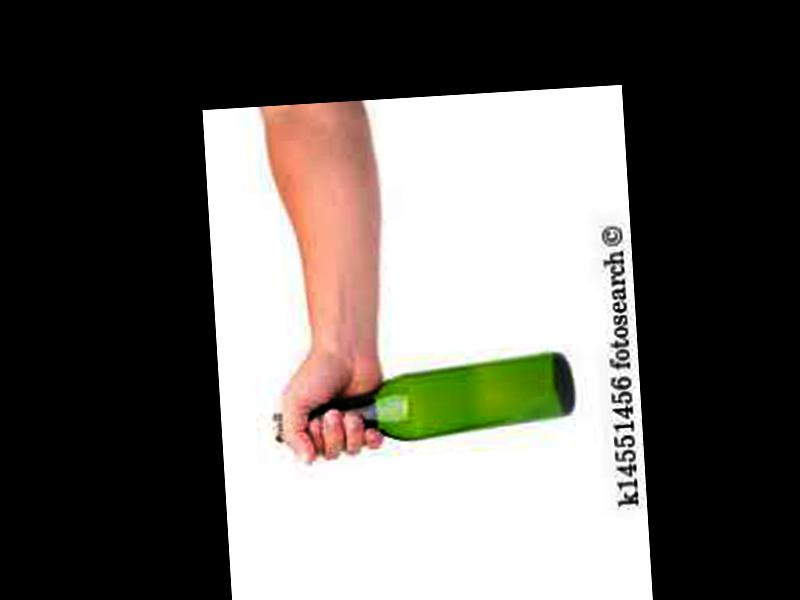Beer: (271, 350, 576, 448)
